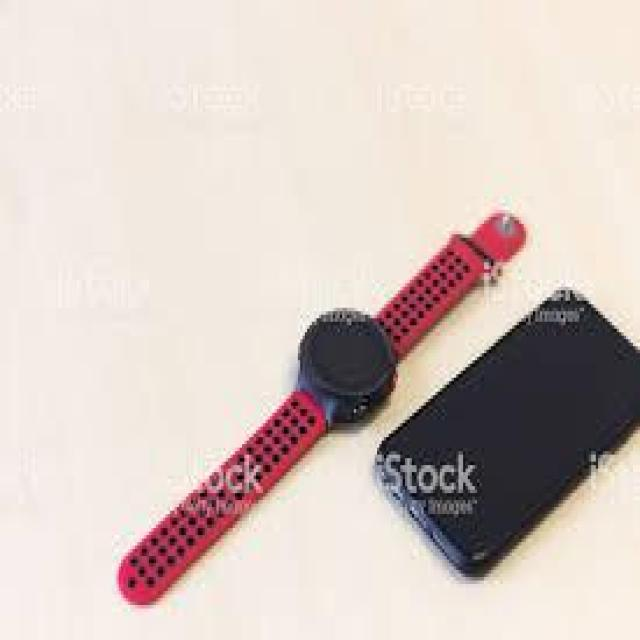smart phone: (377, 286, 615, 610)
watch: (164, 182, 395, 421)
